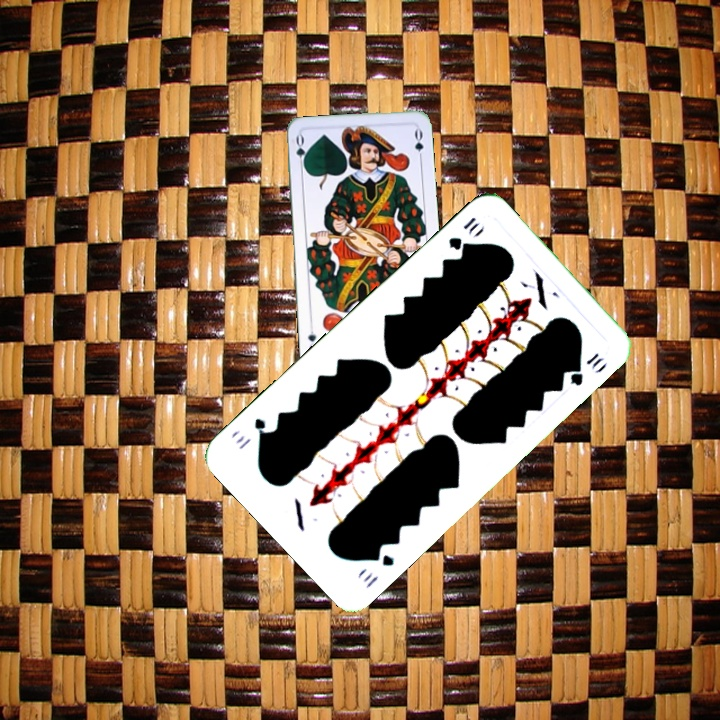G10: (358, 546, 397, 591), (444, 212, 483, 253)
GO: (292, 132, 309, 172)
